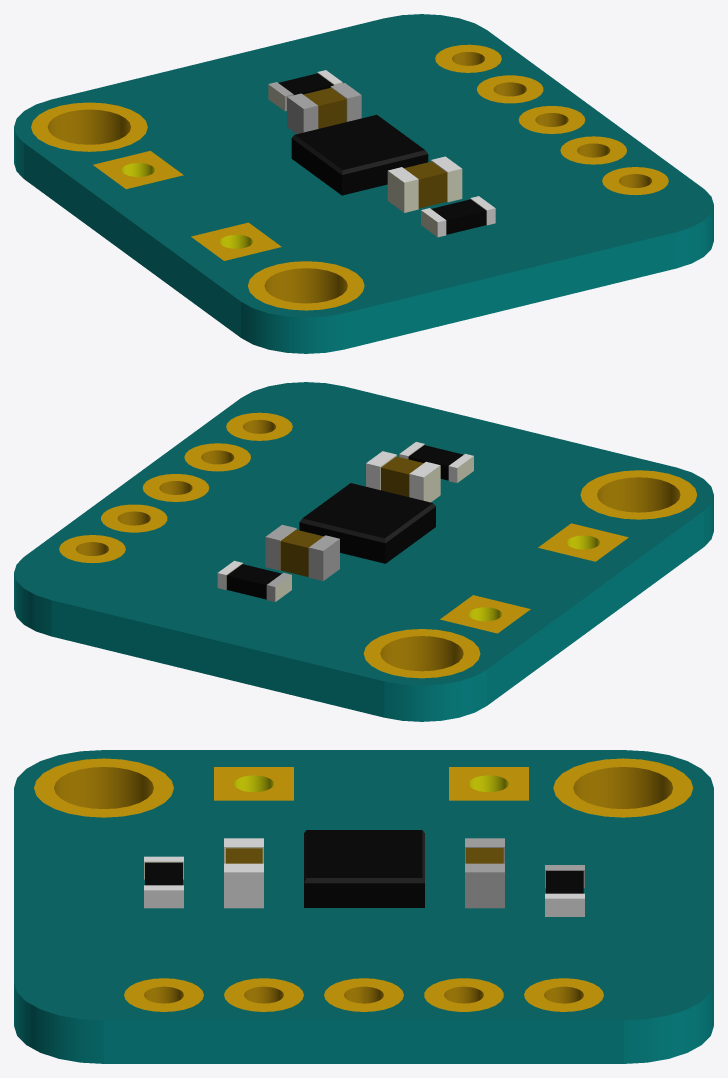
File: DRV2605L.dae
3 views of the same model, one above another, from view 1: azimuth 30°, elevation 25°; view 2: azimuth 150°, elevation 25°; view 3: azimuth 270°, elevation 25° (orthographic). The views are drawn at different scales.
Visible parts, largest first — view 1: SketchUp (×24); view 2: SketchUp (×25); view 3: SketchUp (×32).
Boxes of the visible parts, x1,y1,x2,y2 form: SketchUp (×24): (14,14,713,353); SketchUp (×25): (14,382,713,721); SketchUp (×32): (14,750,713,1063).
Bounding box in the file's own units: 0.6299 × 0.689 × 0.0866.
